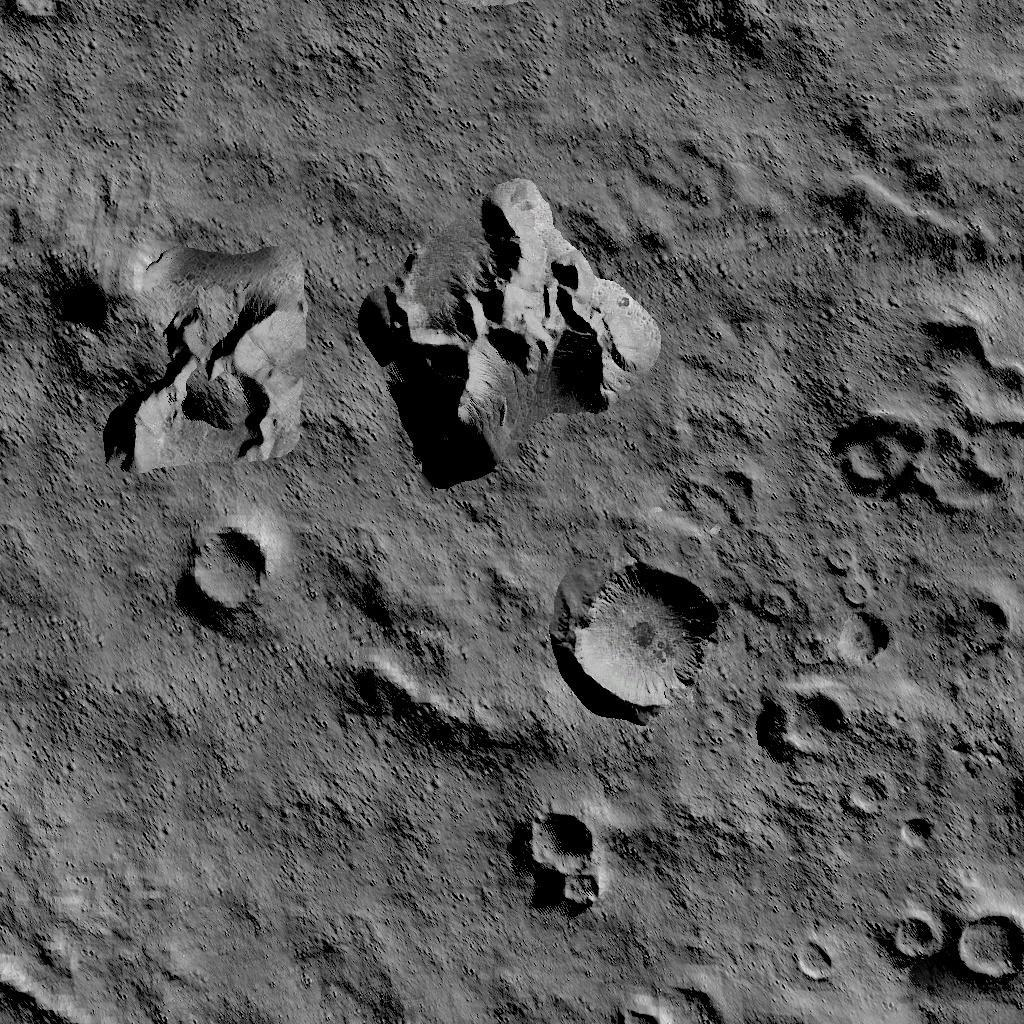Boulders: (357, 176, 664, 486), (51, 220, 319, 473)
Crater: (829, 316, 1024, 514), (553, 552, 725, 716), (884, 896, 1022, 978), (181, 518, 275, 616), (751, 674, 853, 764), (524, 804, 612, 906), (947, 589, 1004, 662), (828, 606, 880, 665), (785, 924, 832, 976), (833, 772, 888, 812), (607, 988, 668, 1024), (897, 808, 933, 844)
Plan surface: (3, 628, 357, 968), (83, 0, 351, 209), (683, 62, 818, 457), (366, 0, 656, 166), (365, 748, 517, 1024), (827, 0, 1024, 192), (0, 480, 165, 617)
